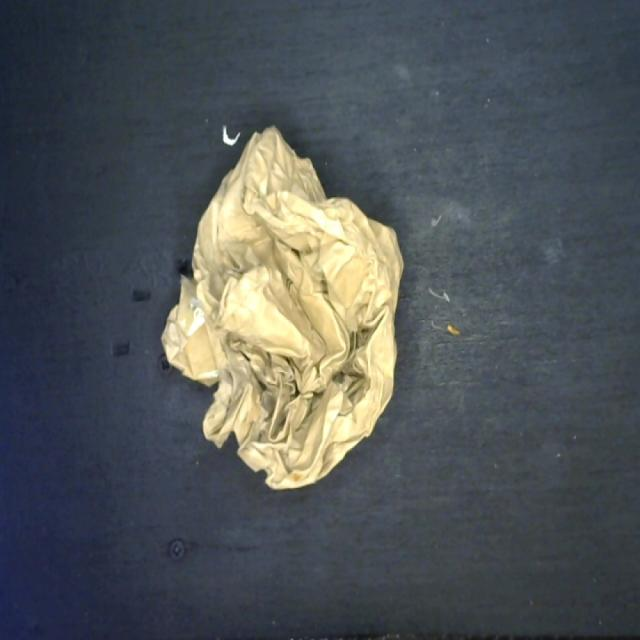biodegradable: (159, 123, 409, 497)
